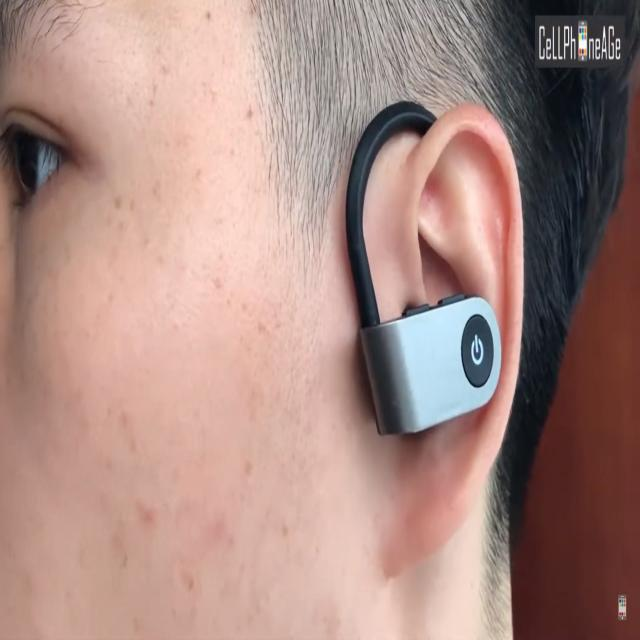airpods: (344, 100, 502, 438)
